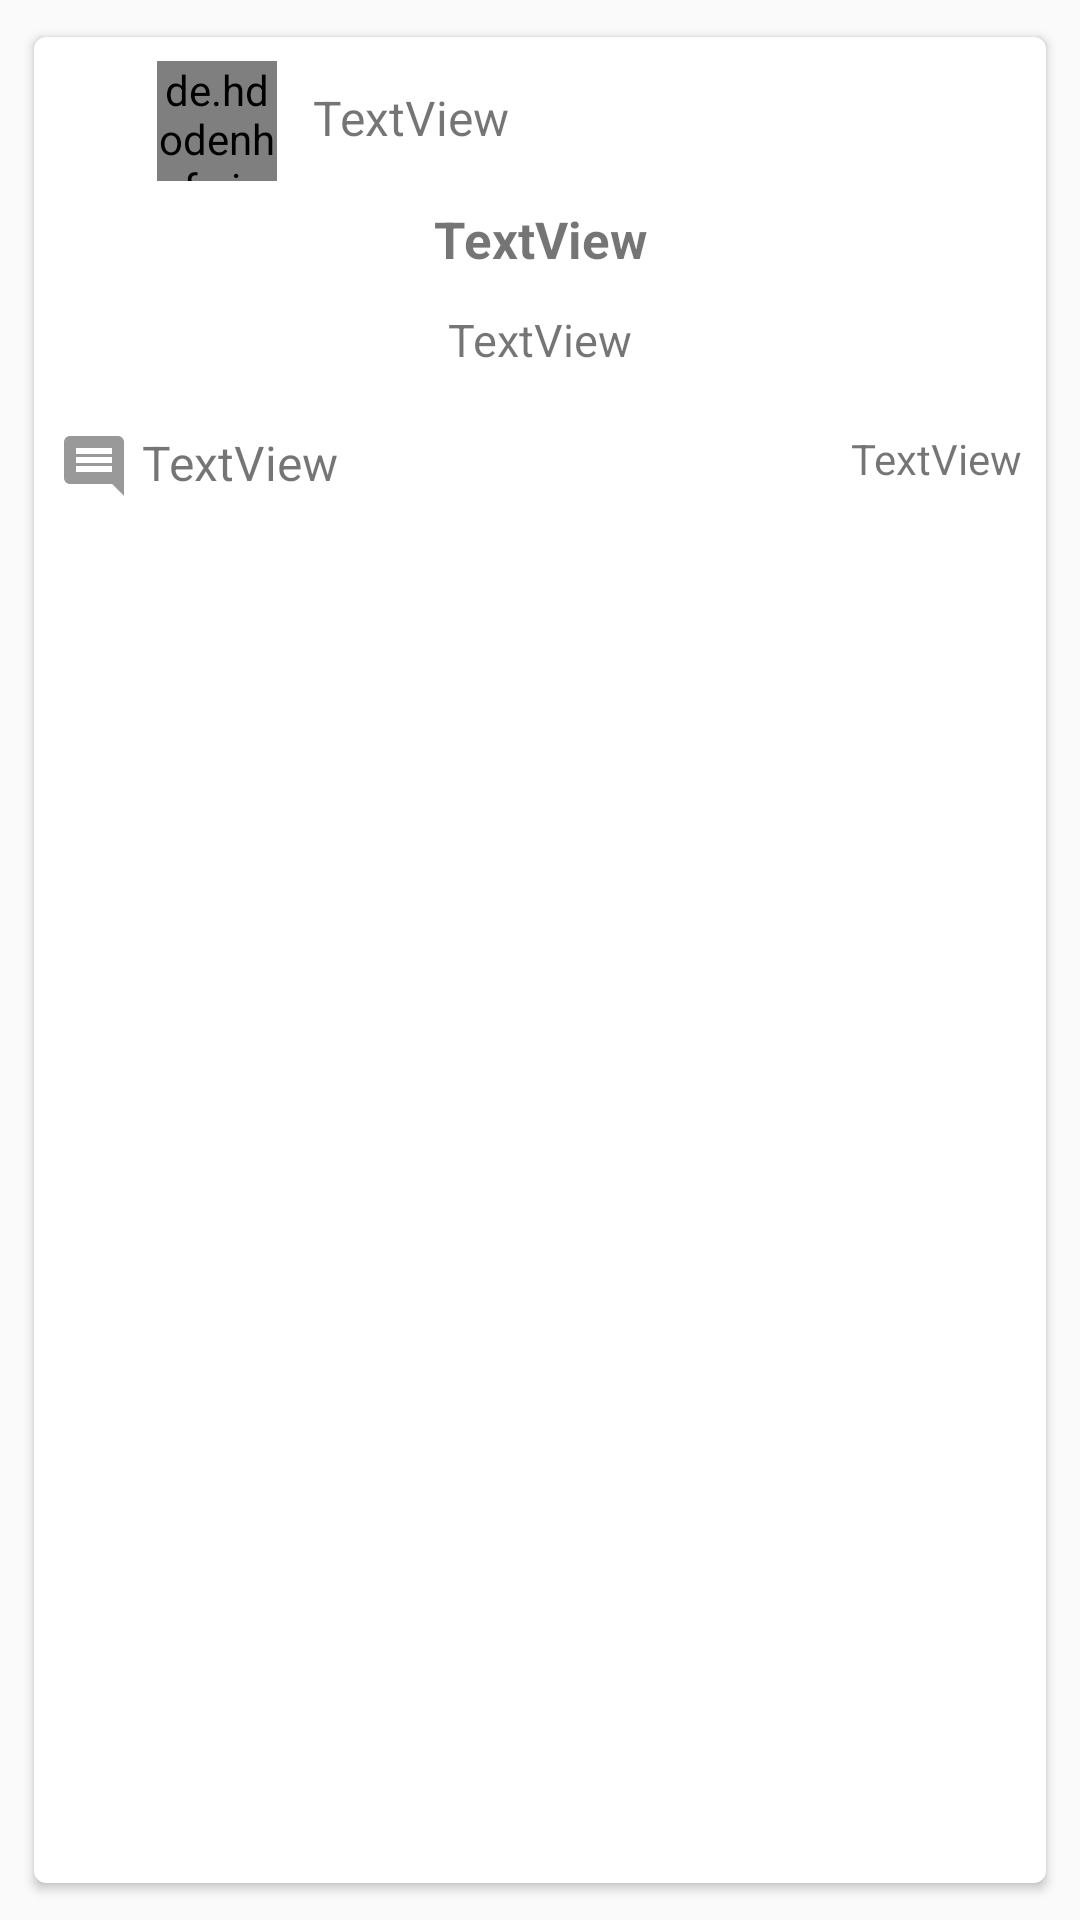

Icon click points for this 1080x1920 phone screenshot, format point (x, y):
comment: point (94, 466)
